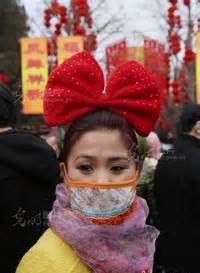WRONG: (71, 154, 136, 219)
